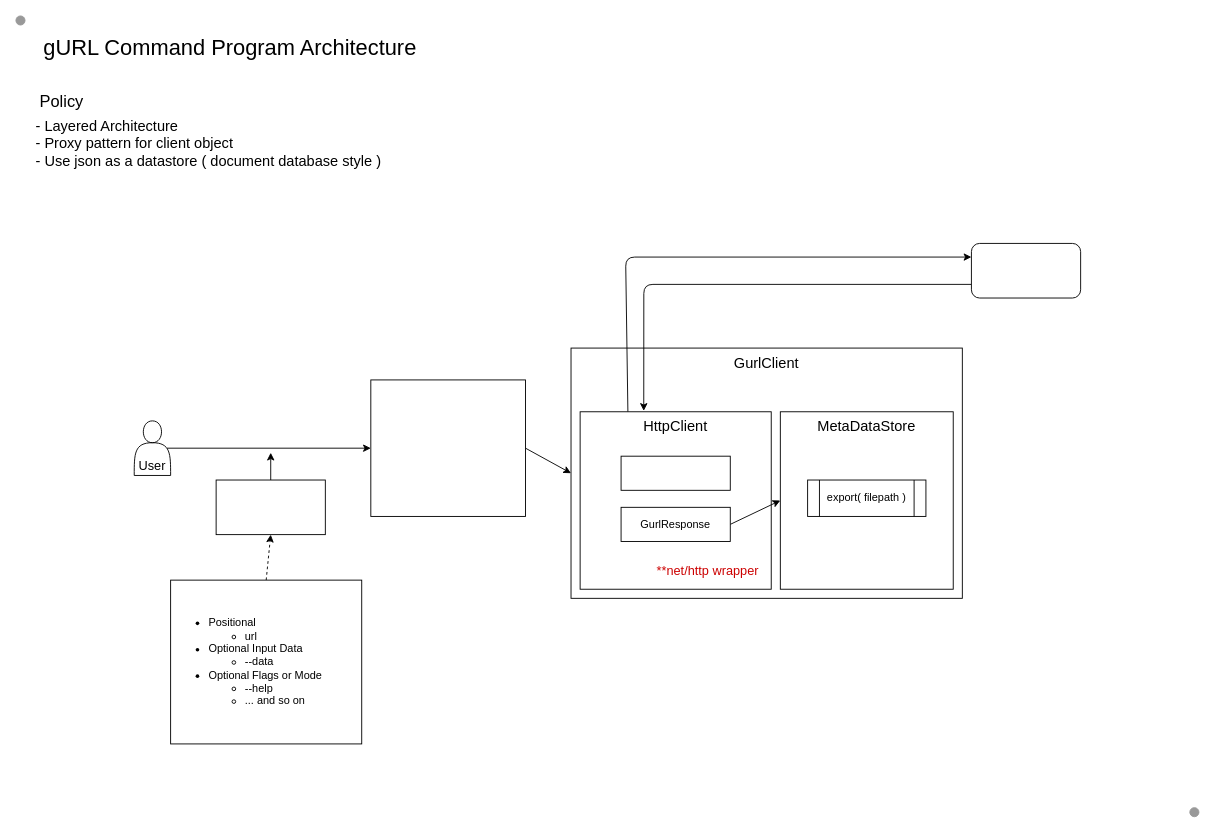
The diagram is 1215 pixels wide and 833 high, and some of its shapes have lost their labels. The centre of each missing label's shape, as x and y in pixels:
"Arguments" goes at point 270,507.
"CommandParser" goes at point 448,447.
"GurlRequest" goes at point 675,472.
"Server" goes at point 1026,270.
